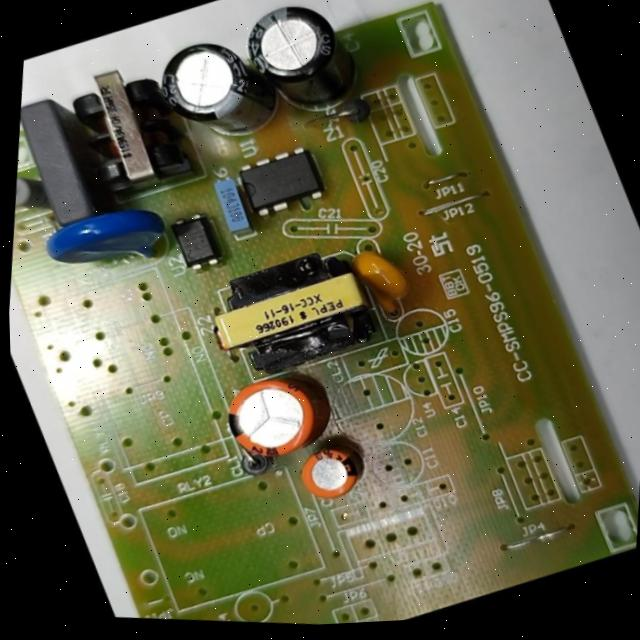Cap1: (204, 359, 334, 480)
Cap2: (285, 432, 377, 513)
Cap3: (133, 14, 294, 169)
Cap4: (222, 0, 373, 135)
MOSFET: (224, 132, 335, 229)
Mov: (30, 183, 182, 301)
Resistor: (12, 162, 56, 229)
Transformer: (192, 227, 392, 396), (39, 43, 210, 217)
